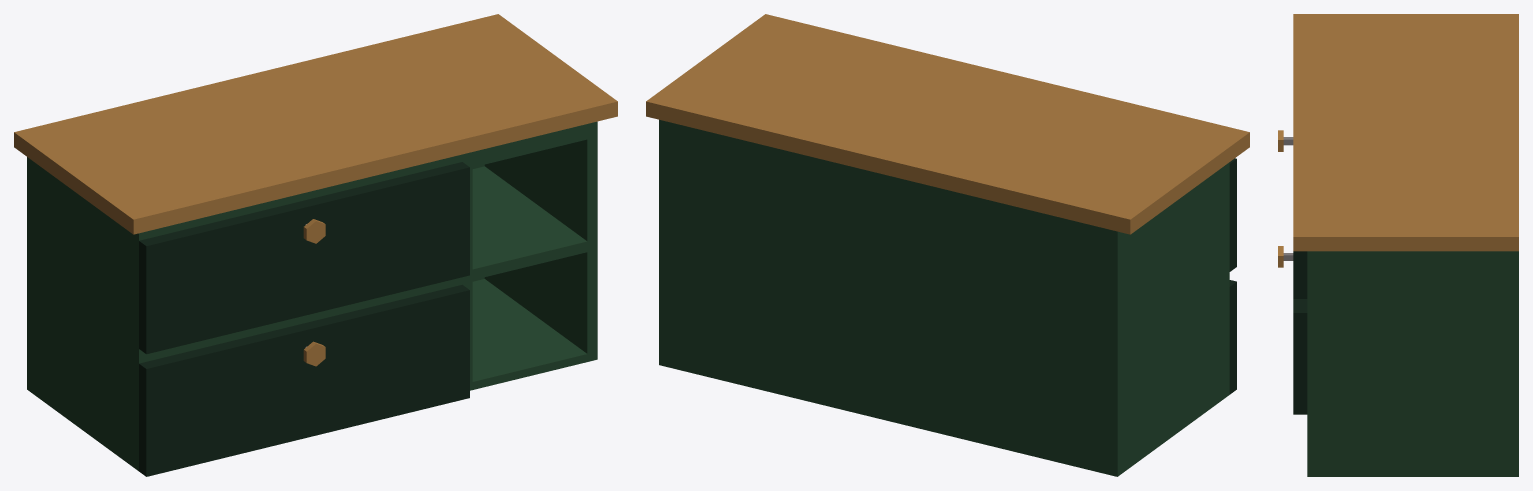
Rendered from furniture_cabinet-bathroom-long.fbx.
The picture shows the model from 3 angles, left to right: view 1: azimuth 30°, elevation 25°; view 2: azimuth 150°, elevation 25°; view 3: azimuth 270°, elevation 25°; orthographic projection. The views are drawn at different scales.
Visible parts, largest first — view 1: furniture_cabinet_bathroom_long; view 2: furniture_cabinet_bathroom_long; view 3: furniture_cabinet_bathroom_long.
Part boxes in pixels (x1,y1,x2,y2): furniture_cabinet_bathroom_long: (14, 14, 617, 476); furniture_cabinet_bathroom_long: (646, 14, 1249, 476); furniture_cabinet_bathroom_long: (1278, 14, 1518, 476).
Bounding box in the file's own units: 200 × 103 × 91.23.
